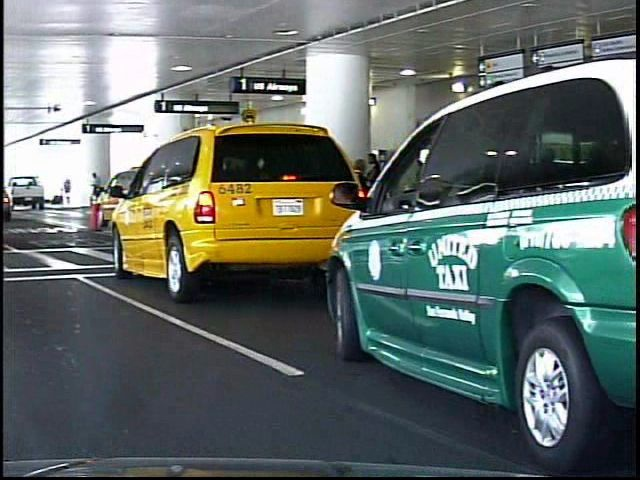person: (82, 171, 99, 209)
